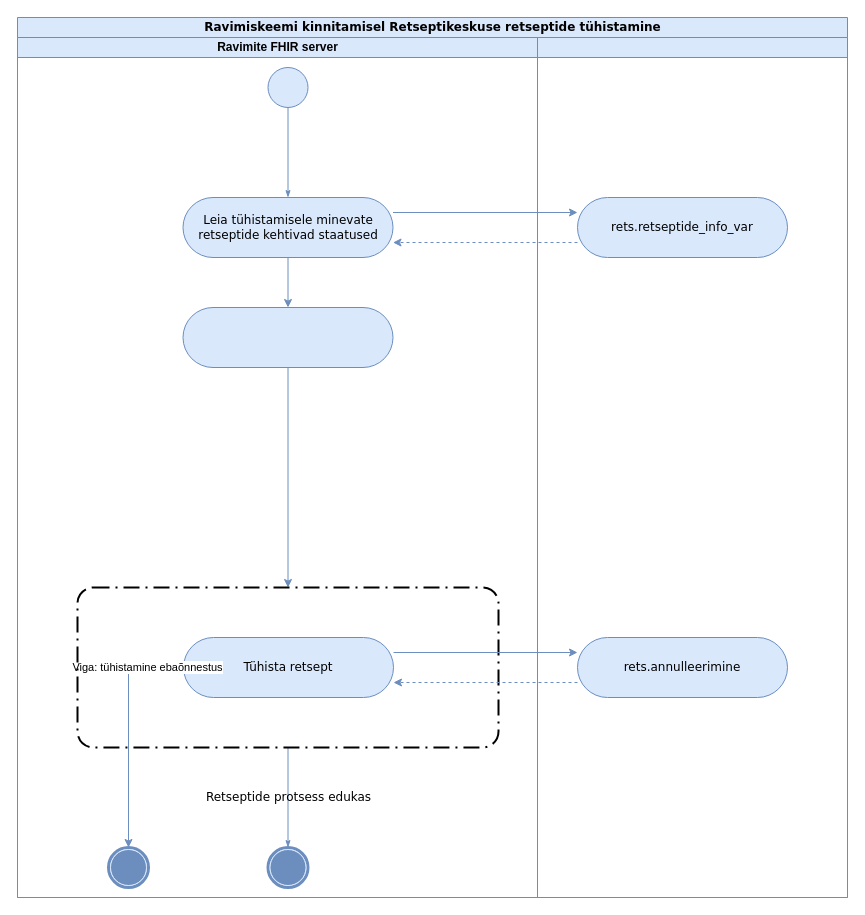
This 865x915 diagram has some shape labels left out. The box of each missing label's shape, as (x1, y1, x2, y2) in pixels:
Filtreeri välja retseptid, mille staatus<>koostatud: (182, 306, 393, 368)
retseptide annuleerimine - iga retsepti kohta: (76, 586, 499, 748)
RK: (536, 36, 848, 898)
